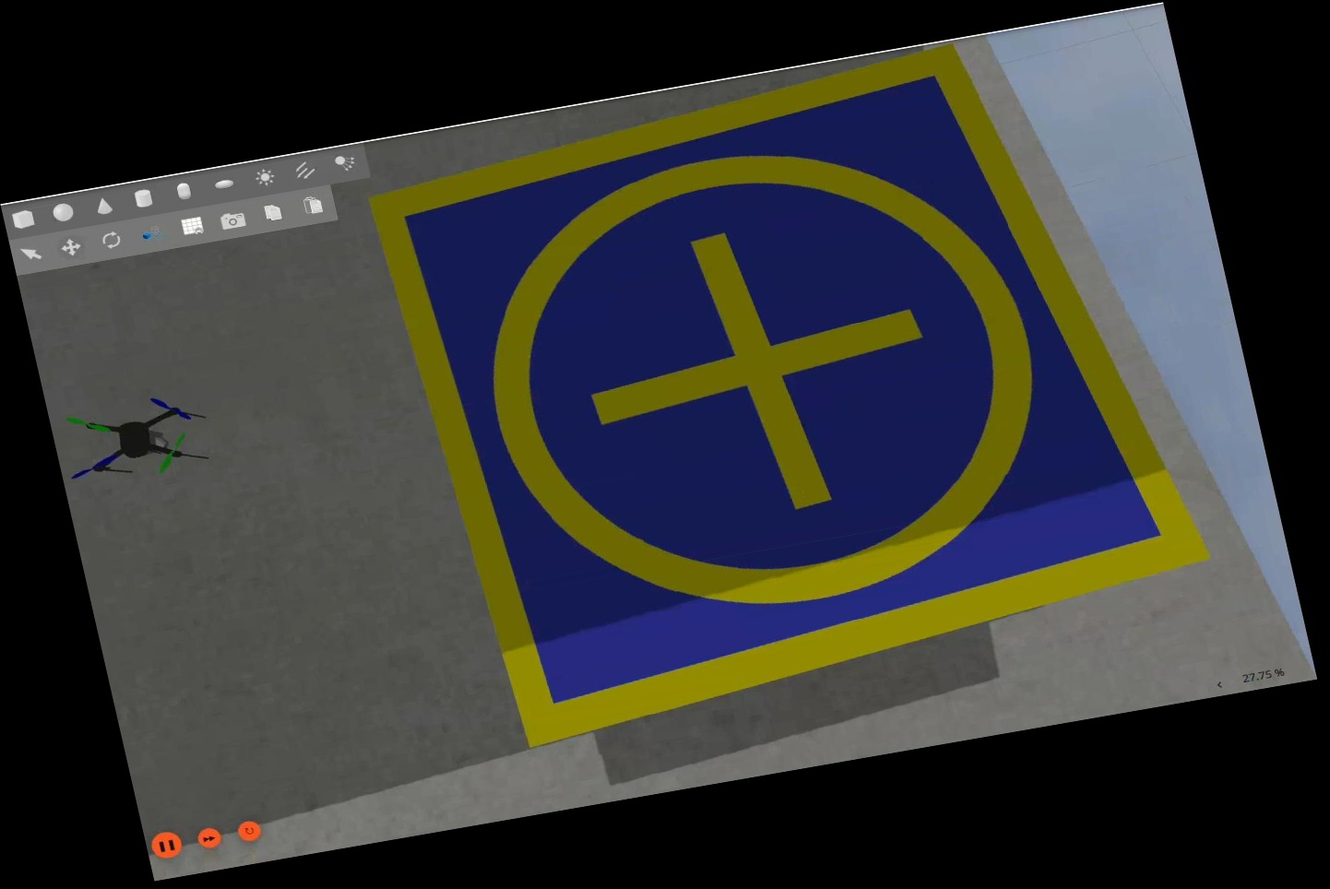small_base: (354, 18, 1225, 753)
